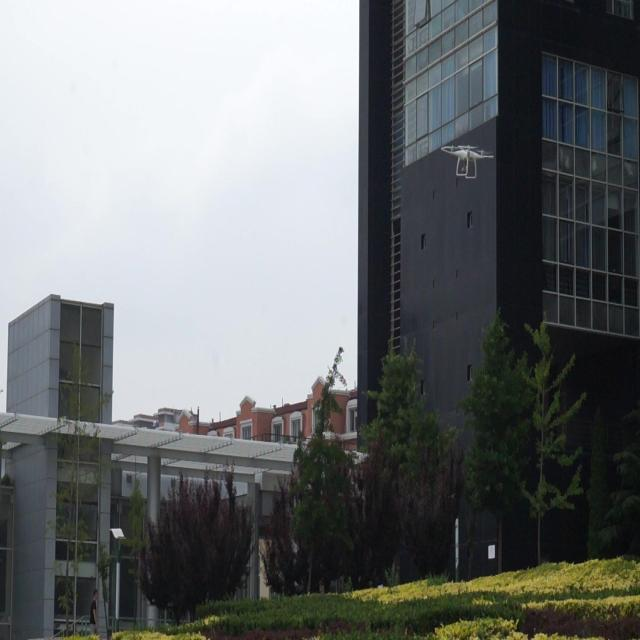drone: (441, 140, 496, 187)
